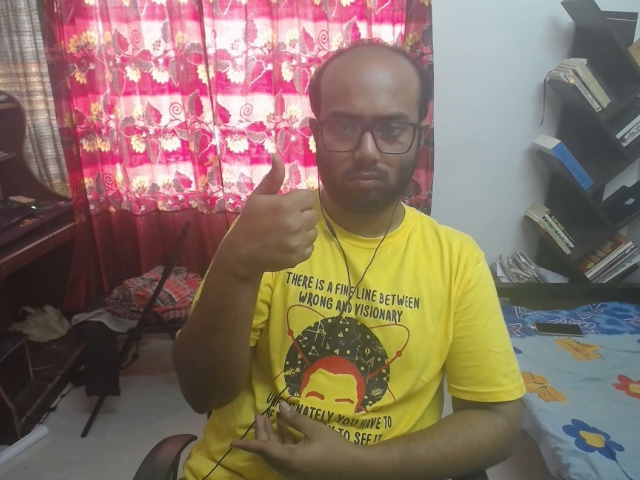six: (217, 148, 337, 287)
